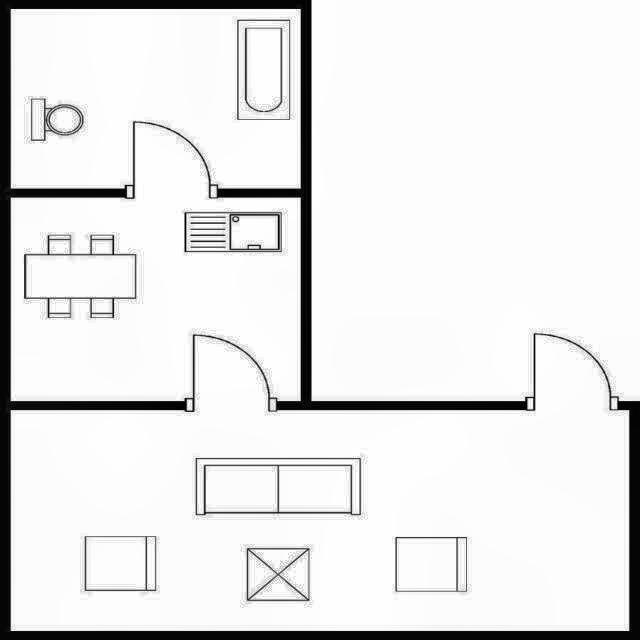room: (11, 411, 629, 630), (12, 197, 301, 401), (11, 10, 301, 188)
